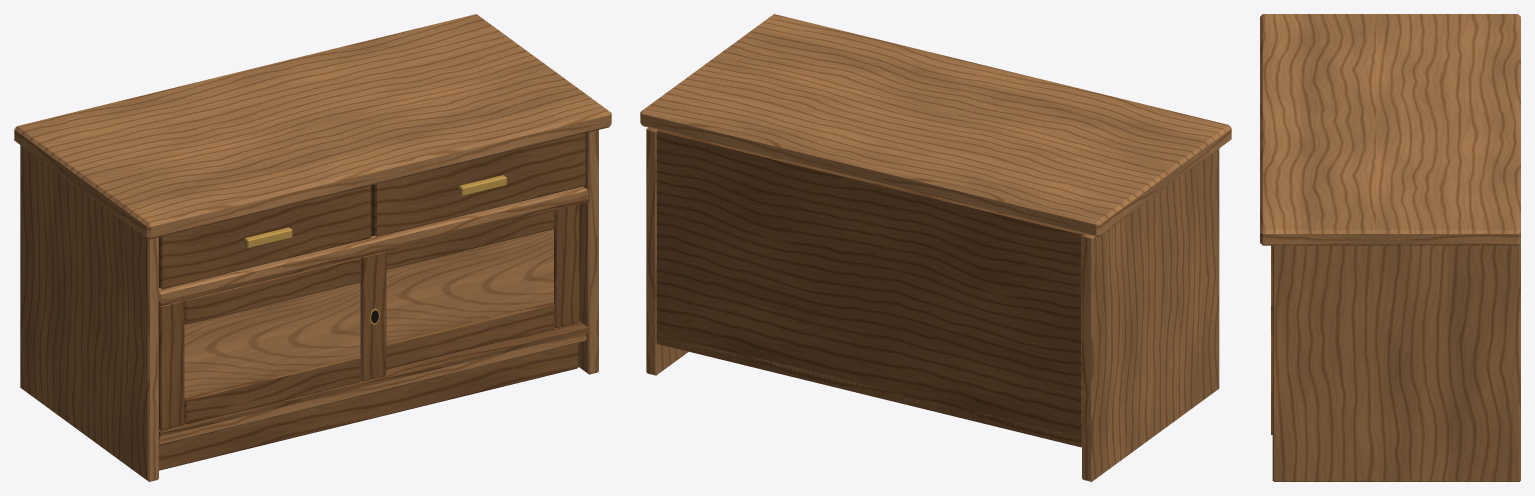
The model's file is platecabinet.glb.
3 renders of one model, left to right at view 1: azimuth 30°, elevation 25°; view 2: azimuth 150°, elevation 25°; view 3: azimuth 270°, elevation 25°, orthographic. The views are drawn at different scales.
Parts seen in each view (by area): view 1: CabTop, CabSide-1, CabDoorPanel0, CabDoorPanel1, CabDrawer1, CabPlinth, CabDrawer0, CabRail, CabDoorRailB0, CabDoorRailB1, CabDoorRailT0, CabSide1 (+7 smaller); view 2: CabBack, CabTop, CabSide-1, CabSide1, CabBottom; view 3: CabTop, CabSide1.
Boxes of the visible parts, x1,y1,x2,y2 form: CabTop: (14,14,611,239); CabSide-1: (20,145,158,481); CabDoorPanel0: (184,282,360,398); CabDoorPanel1: (386,229,553,342); CabDrawer1: (371,133,585,236); CabPlinth: (159,343,578,470); CabDrawer0: (159,185,371,288); CabRail: (159,186,587,301); CabDoorRailB0: (184,355,361,424); CabDoorRailB1: (386,302,554,369); CabDoorRailT0: (184,257,361,324); CabSide1: (578,130,598,374); CabBack: (656,130,1083,447); CabTop: (640,14,1231,237); CabSide-1: (1082,148,1219,481); CabSide1: (646,127,688,375); CabBottom: (658,334,1079,444); CabTop: (1260,14,1520,245); CabSide1: (1272,243,1520,481).
Bounding box in the file's own units: 1.03 × 0.56 × 0.52.
11 materials, 4 textured.
